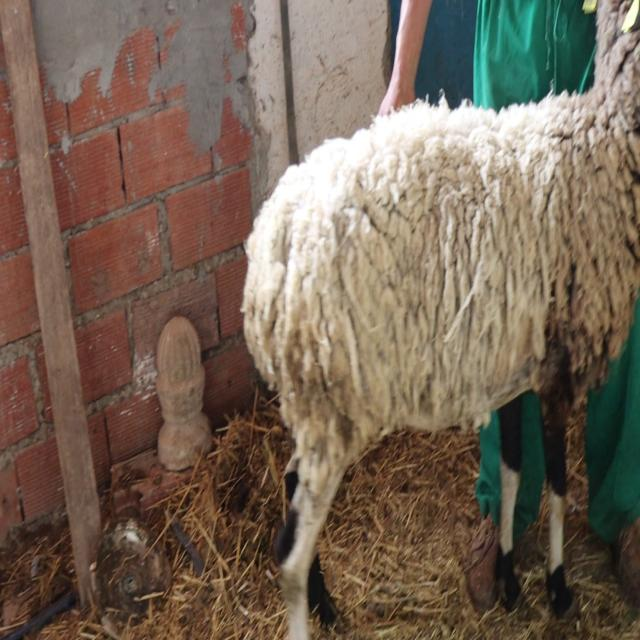Score_2: (242, 0, 640, 639)
